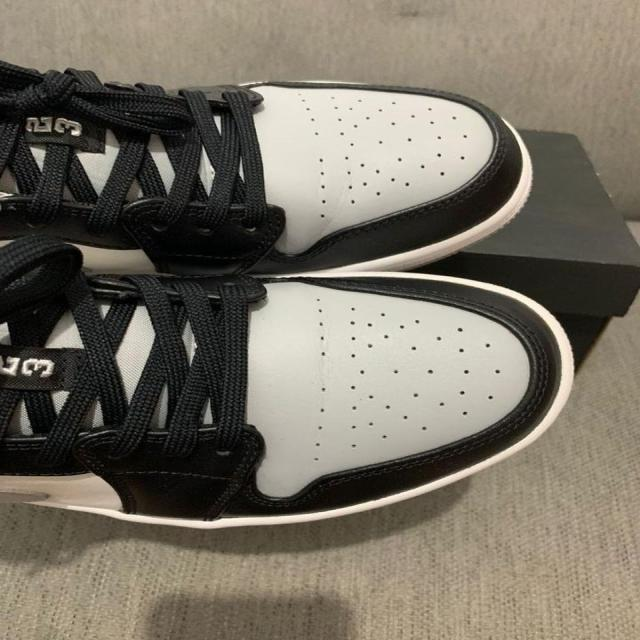nike fake jordan 1: (0, 272, 580, 528), (0, 73, 538, 277)
